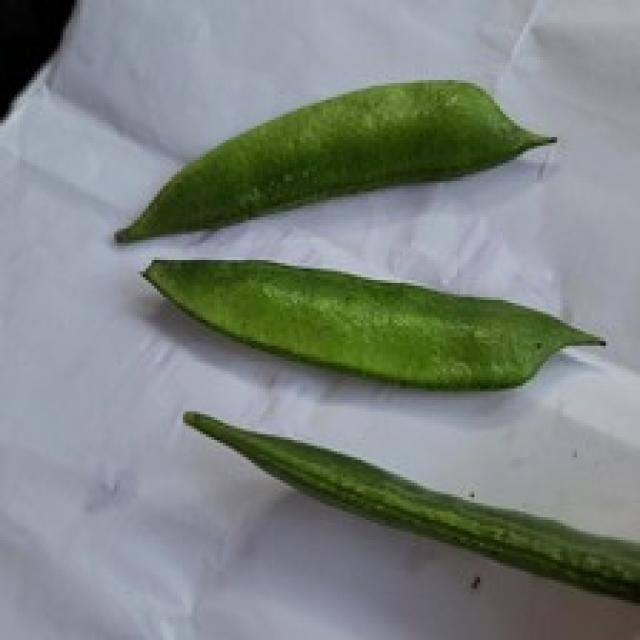Bean: (180, 406, 637, 626), (112, 74, 557, 243), (137, 254, 606, 392)
